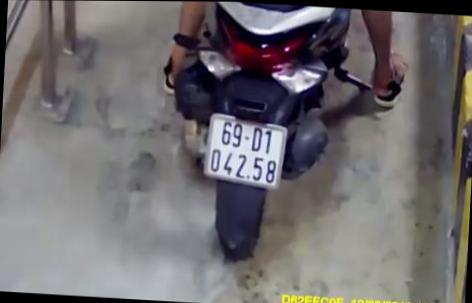LP: (200, 111, 289, 192)
